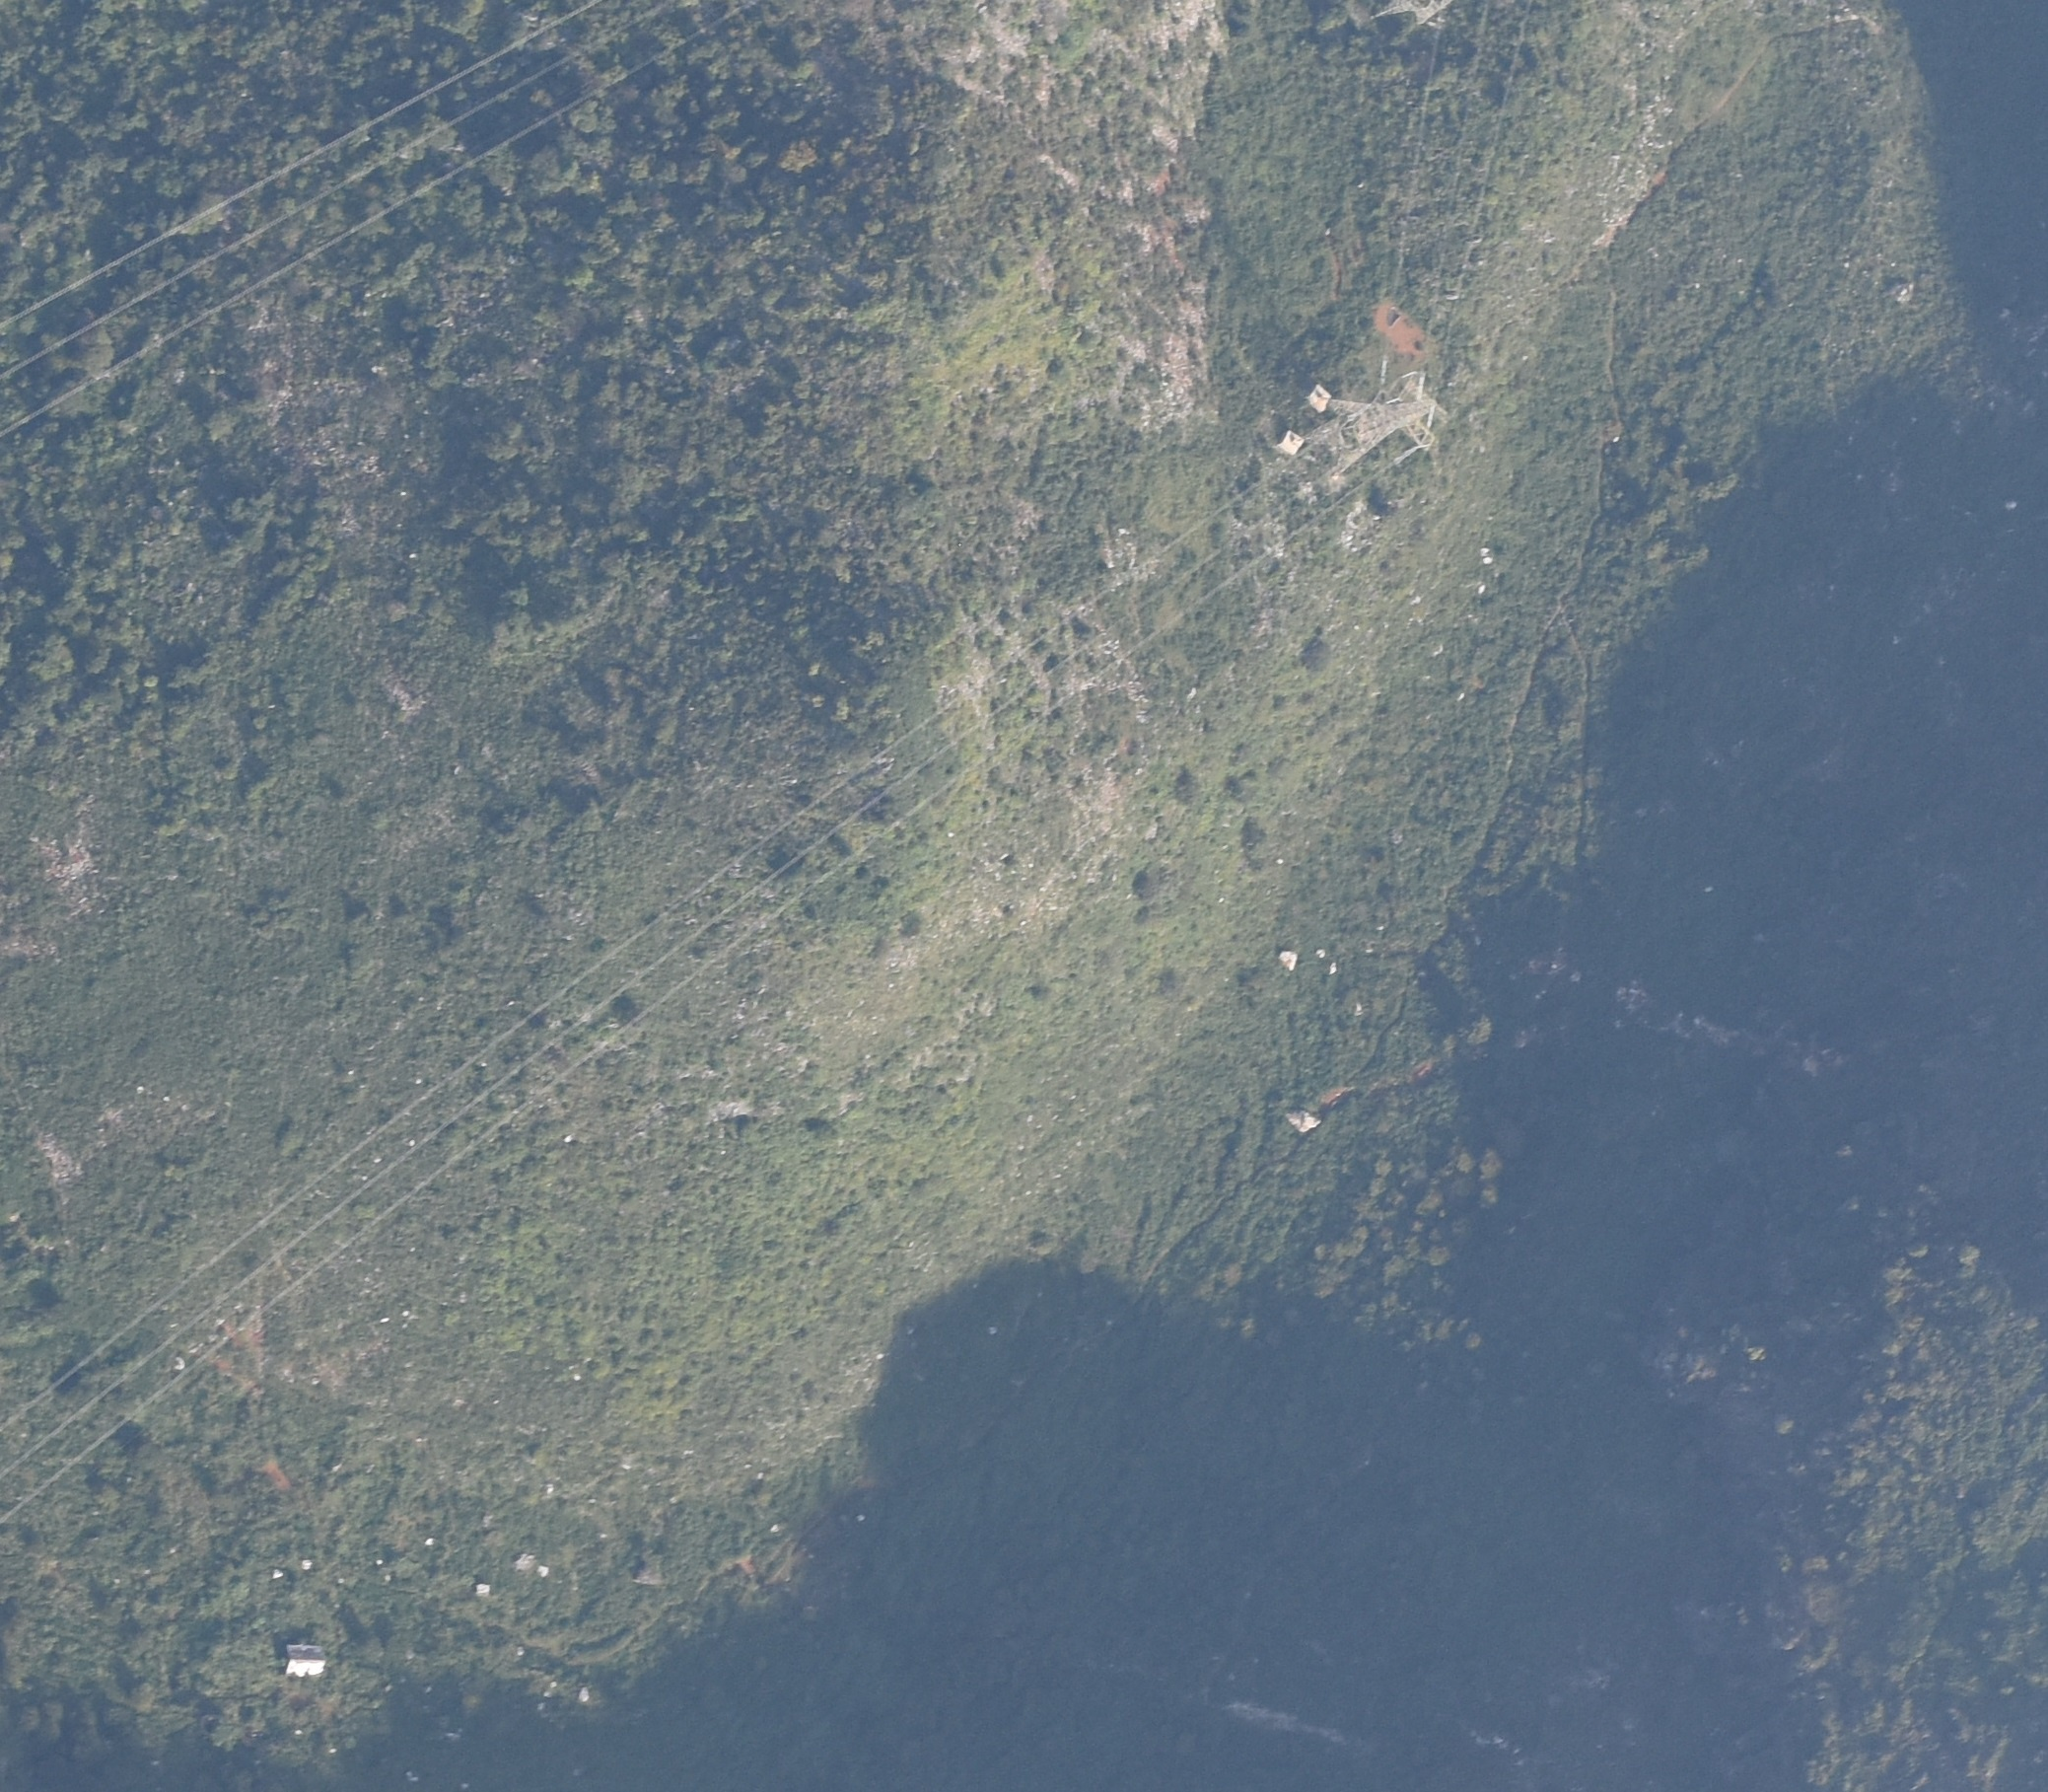cable-tower: (1280, 367, 1449, 503)
prefabricated-house: (280, 1642, 329, 1679)
